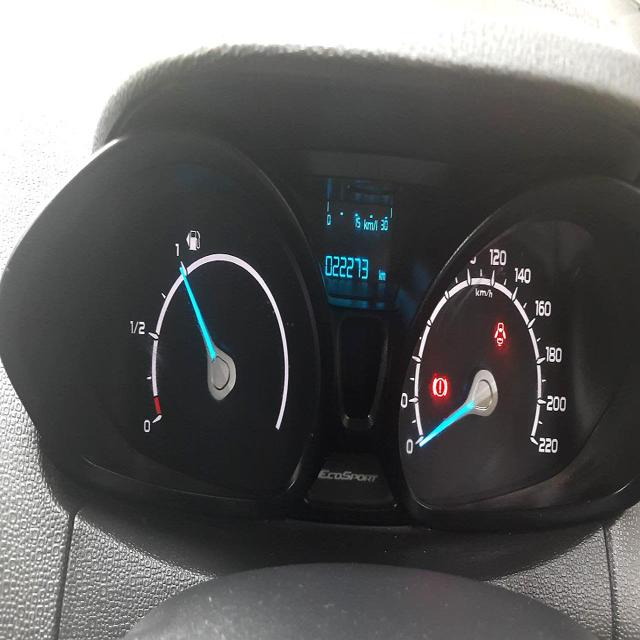odometer: (323, 248, 370, 285)
